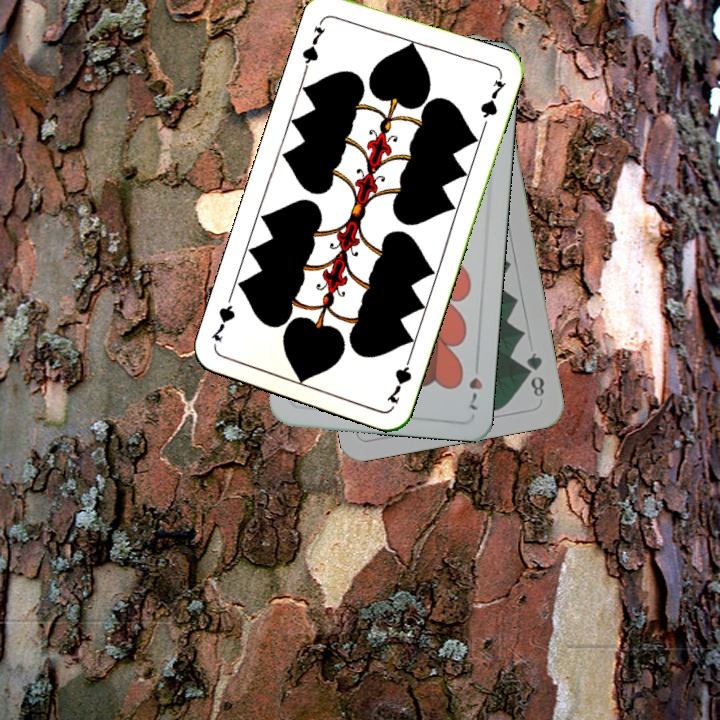G7: (382, 349, 415, 406), (298, 15, 328, 73)
G8: (522, 348, 547, 400)
H7: (465, 356, 485, 413)
